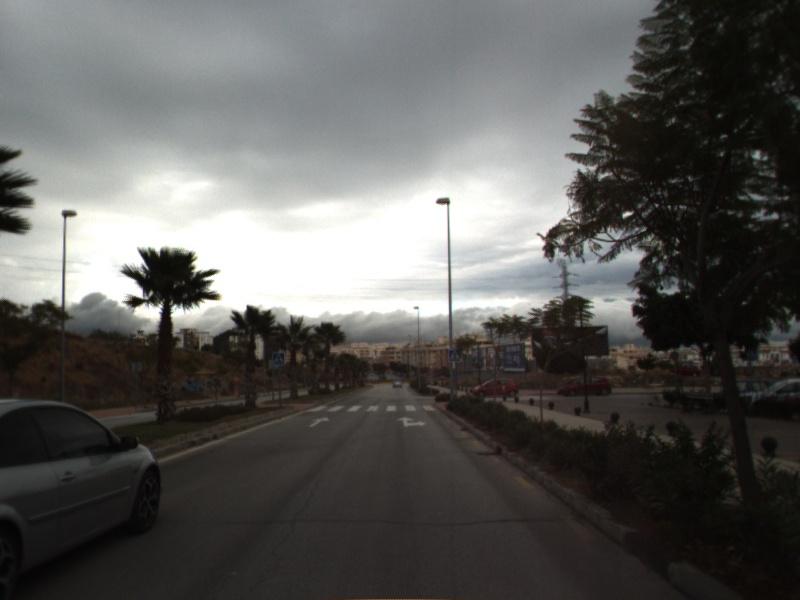STRAIGHT: (307, 415, 332, 429)
STRAIGHT_RIGHT: (394, 414, 428, 429)
